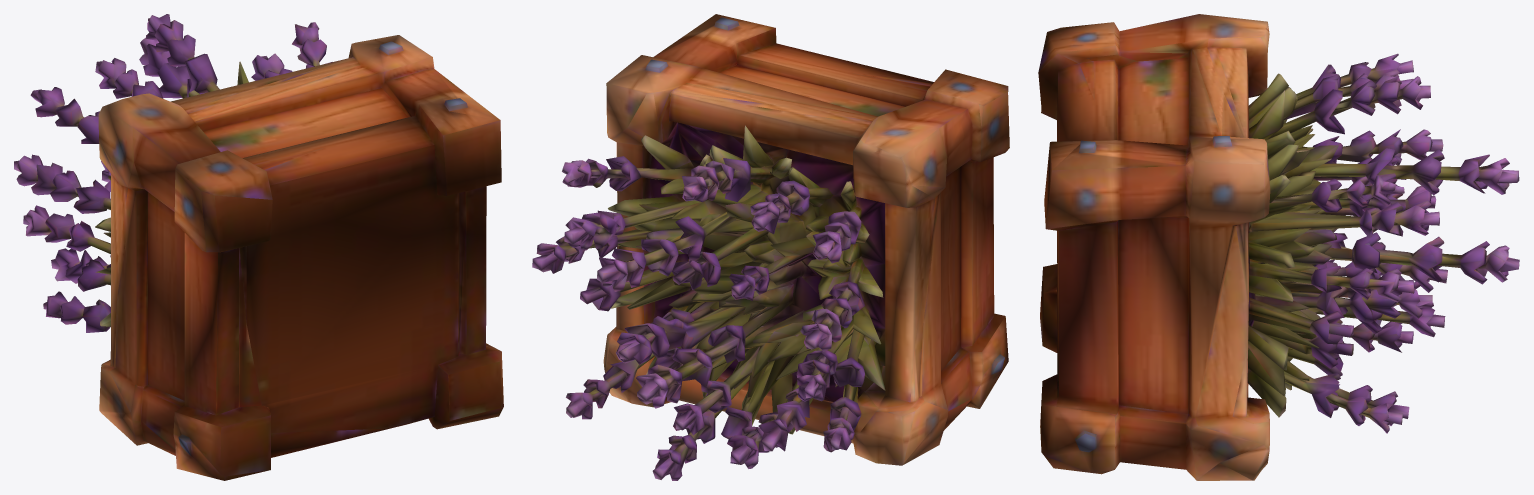
The picture shows the model from 3 angles, left to right: view 1: azimuth 30°, elevation 25°; view 2: azimuth 150°, elevation 25°; view 3: azimuth 270°, elevation 25°; orthographic projection.
Visible parts, largest first — view 1: material; view 2: material; view 3: material.
Part boxes in pixels (x1,y1,x2,y2): material: (14,14,503,480); material: (532,14,1009,480); material: (1038,14,1519,480).
Size of the model in its own units: 0.7543 by 0.7664 by 1.
1 material, 1 textured.
